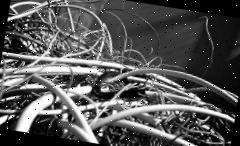electronic: (1, 0, 123, 78)
